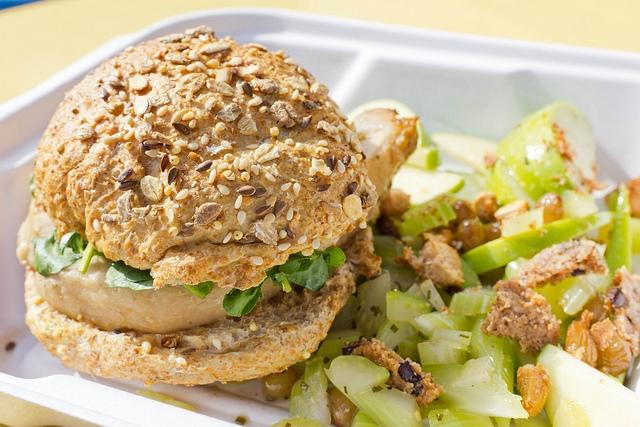celery: (323, 355, 422, 425), (420, 356, 530, 419), (329, 268, 391, 341), (467, 313, 515, 394), (288, 356, 332, 426), (411, 305, 478, 336), (533, 277, 578, 321), (386, 290, 431, 324), (375, 320, 420, 352), (557, 278, 592, 316), (448, 291, 498, 316), (428, 408, 493, 427), (428, 328, 472, 350), (418, 342, 458, 366)
lettuce: (32, 230, 84, 276), (313, 329, 364, 370), (286, 252, 332, 293), (222, 282, 266, 318), (106, 260, 154, 291), (317, 245, 346, 276), (406, 146, 441, 170), (182, 281, 214, 300)
